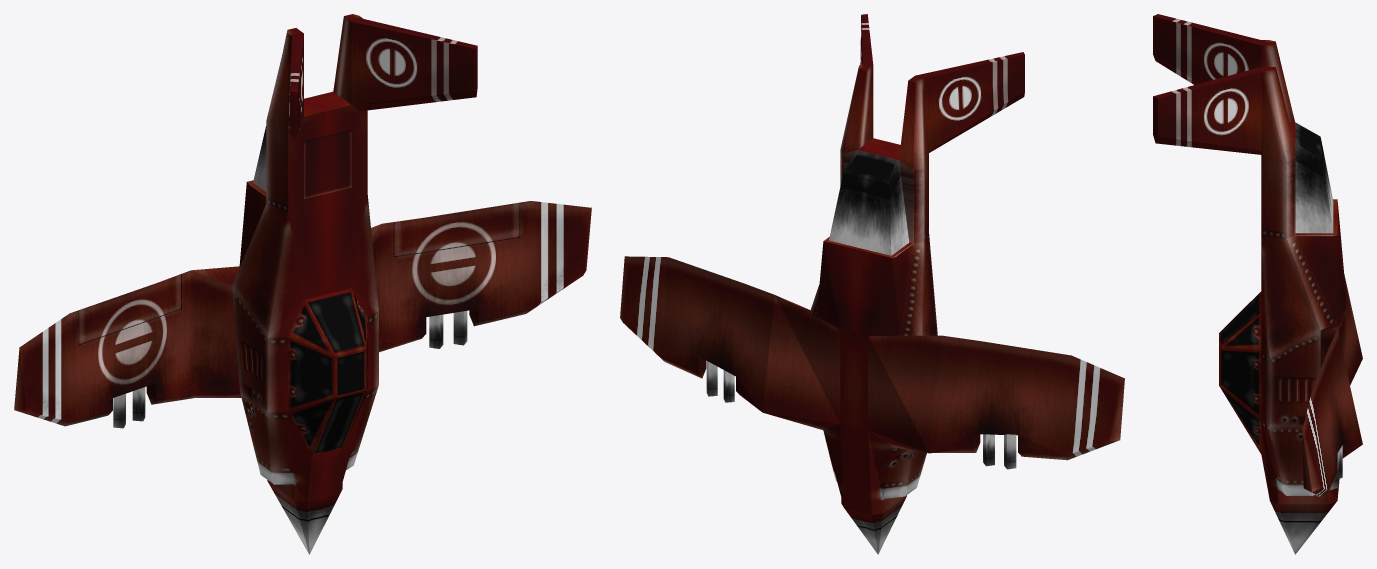
Rendered from enemyturret(test)_wtf.obj.
3 renders of one model, left to right at view 1: azimuth 30°, elevation 25°; view 2: azimuth 150°, elevation 25°; view 3: azimuth 270°, elevation 25°, orthographic. The views are drawn at different scales.
Visible parts, largest first — view 1: group1; view 2: group1; view 3: group1.
Boxes of the visible parts, left/top/right/bottom form: group1: left=14, top=14, right=591, bottom=554; group1: left=620, top=14, right=1124, bottom=554; group1: left=1153, top=14, right=1362, bottom=554.
Size of the model in its own units: 660 by 596 by 227.
